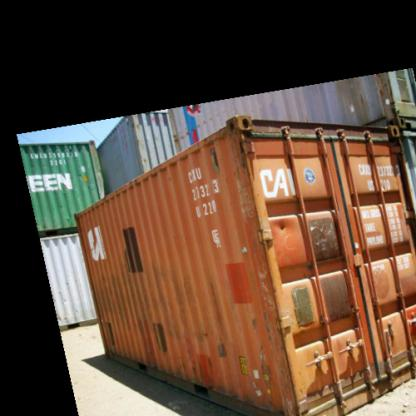Damage: (230, 124, 298, 400), (211, 333, 230, 363)
